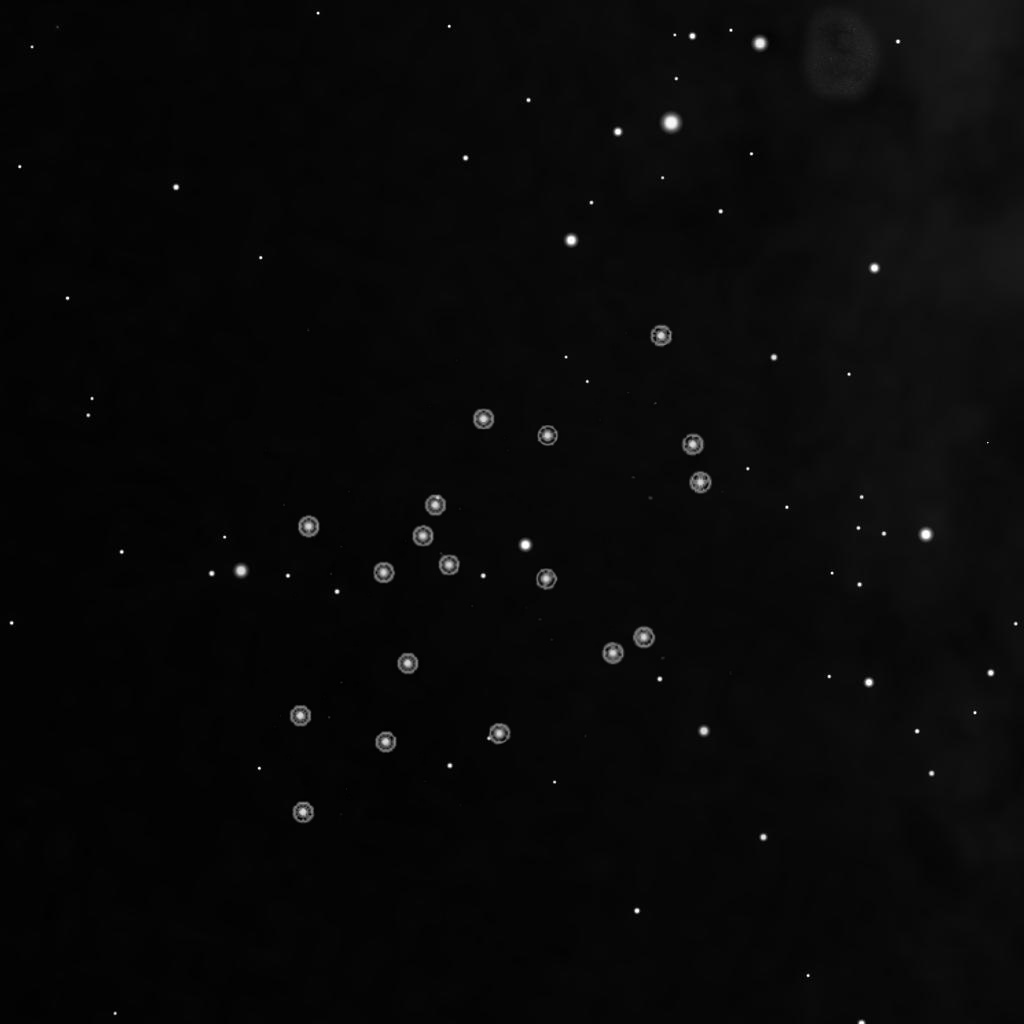canis_major: (368, 406, 563, 591)
